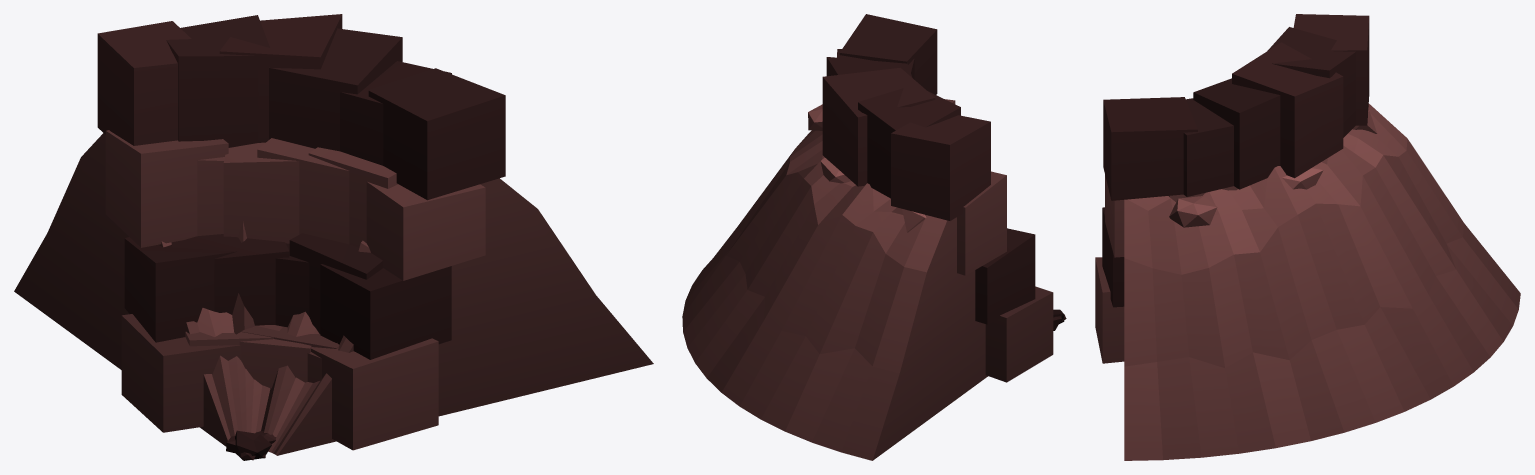
File: cliff-fulgora-inner.glb
3 views of the same model, side by side, from view 1: azimuth 30°, elevation 25°; view 2: azimuth 150°, elevation 25°; view 3: azimuth 270°, elevation 25° (orthographic). The views are drawn at different scales.
Parts seen in each view (by area): view 1: cliff-fulgora-inner; view 2: cliff-fulgora-inner; view 3: cliff-fulgora-inner.
Part boxes in pixels (bbox=[...]): cliff-fulgora-inner: bbox=[14, 14, 653, 460]; cliff-fulgora-inner: bbox=[682, 14, 1066, 460]; cliff-fulgora-inner: bbox=[1095, 14, 1520, 460].
Size of the model in its own units: 3.82 by 2.71 by 3.76.
